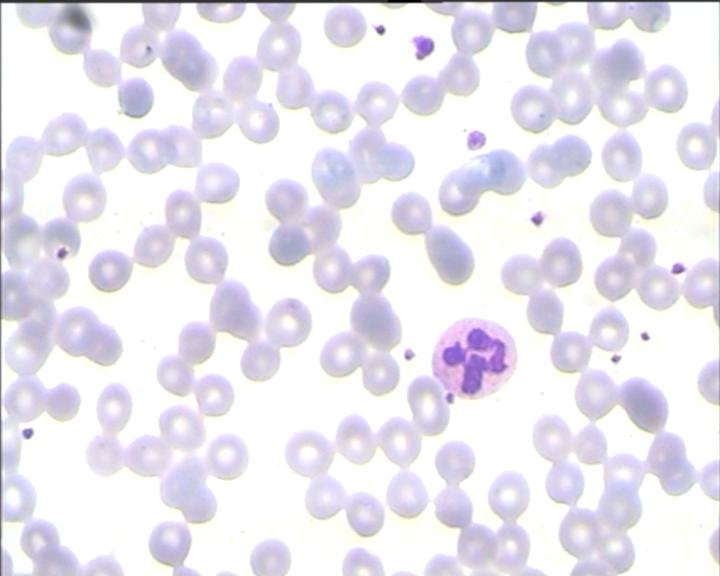neut: (430, 315, 517, 402)
